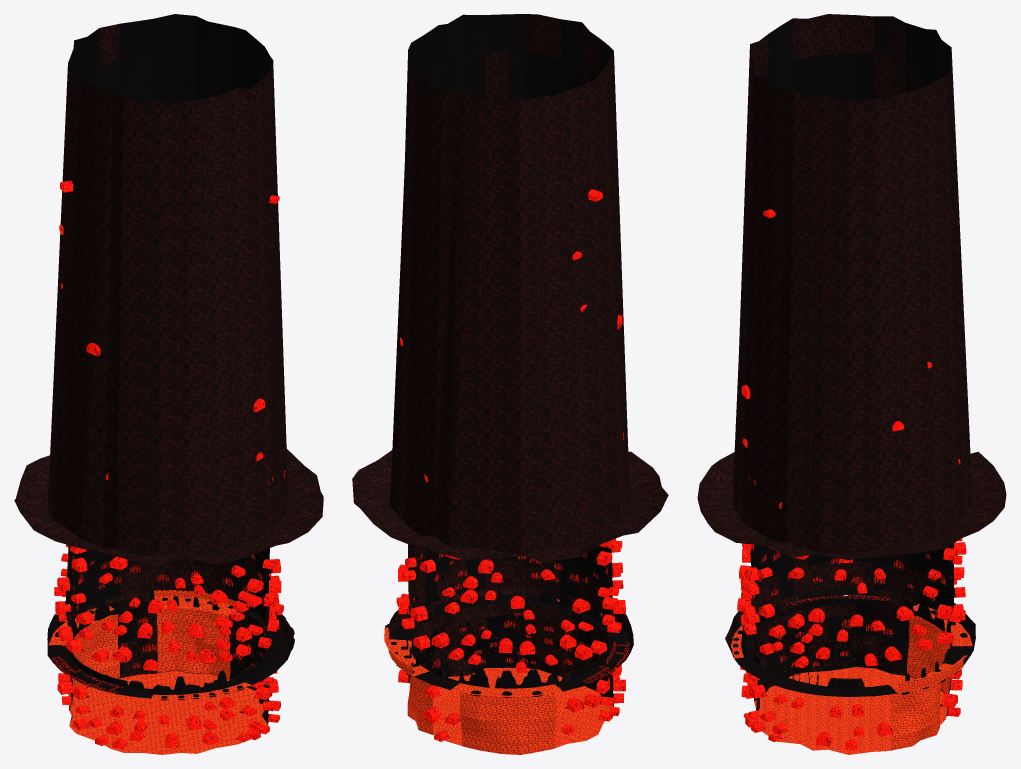
Rendered from map_base.glb.
3 views of the same model, side by side, from view 1: azimuth 30°, elevation 25°; view 2: azimuth 150°, elevation 25°; view 3: azimuth 270°, elevation 25° (orthographic).
Visible parts, largest first — view 1: MapBaseRock; view 2: MapBaseRock; view 3: MapBaseRock.
Part boxes in pixels (x1=…): MapBaseRock: x1=14, y1=14, x2=323, y2=754; MapBaseRock: x1=352, y1=14, x2=668, y2=754; MapBaseRock: x1=697, y1=14, x2=1006, y2=754.
Size of what is drawn, in the model's own units: 146 by 343 by 146.
Materials: 6 (6 with a texture image).
